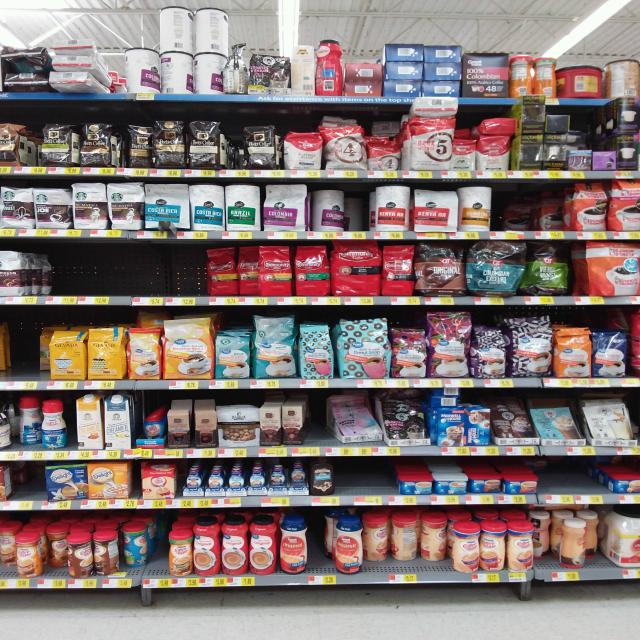empty: (50, 244, 212, 294), (332, 459, 395, 498), (1, 318, 37, 380), (542, 460, 599, 497)
